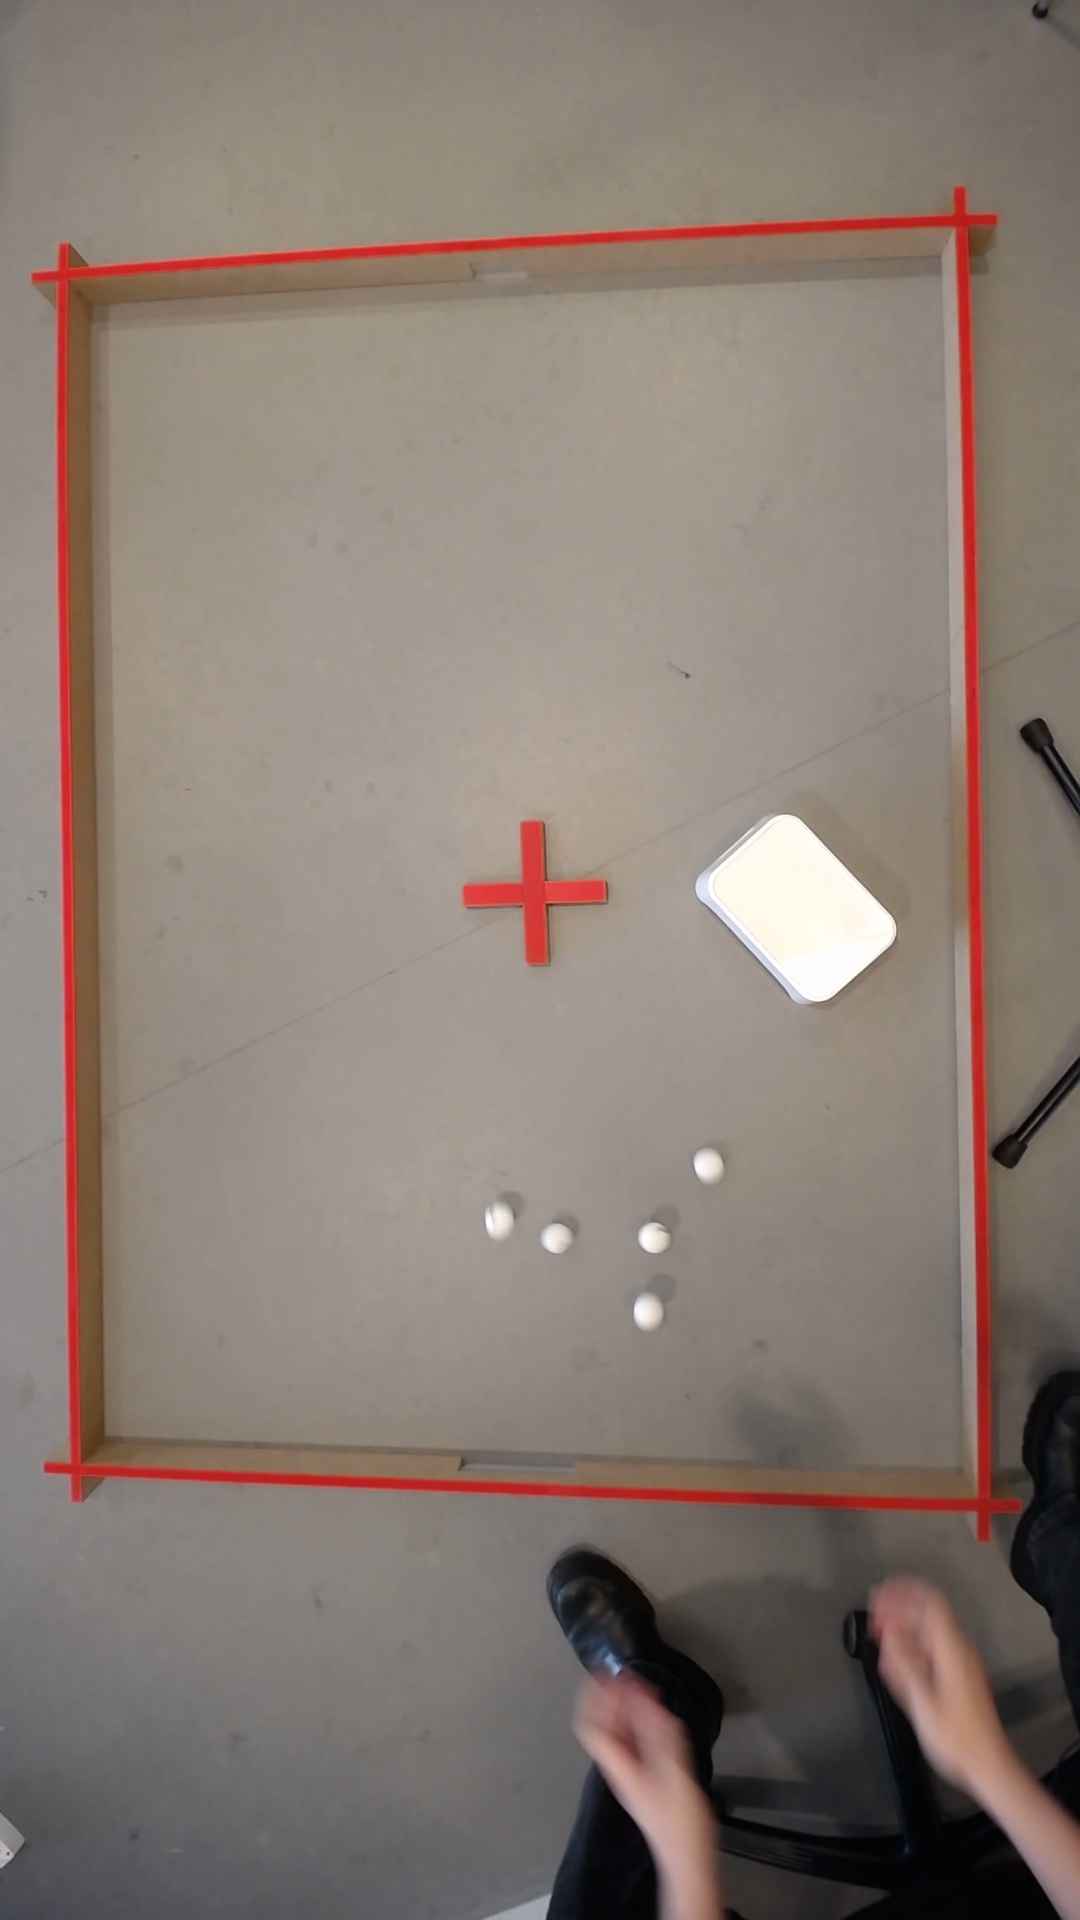balls: (687, 798, 905, 1018), (597, 1733, 708, 1896), (632, 1218, 670, 1257), (479, 1201, 516, 1238), (688, 1146, 724, 1182), (628, 1294, 662, 1329)
car: (537, 1220, 568, 1254)
